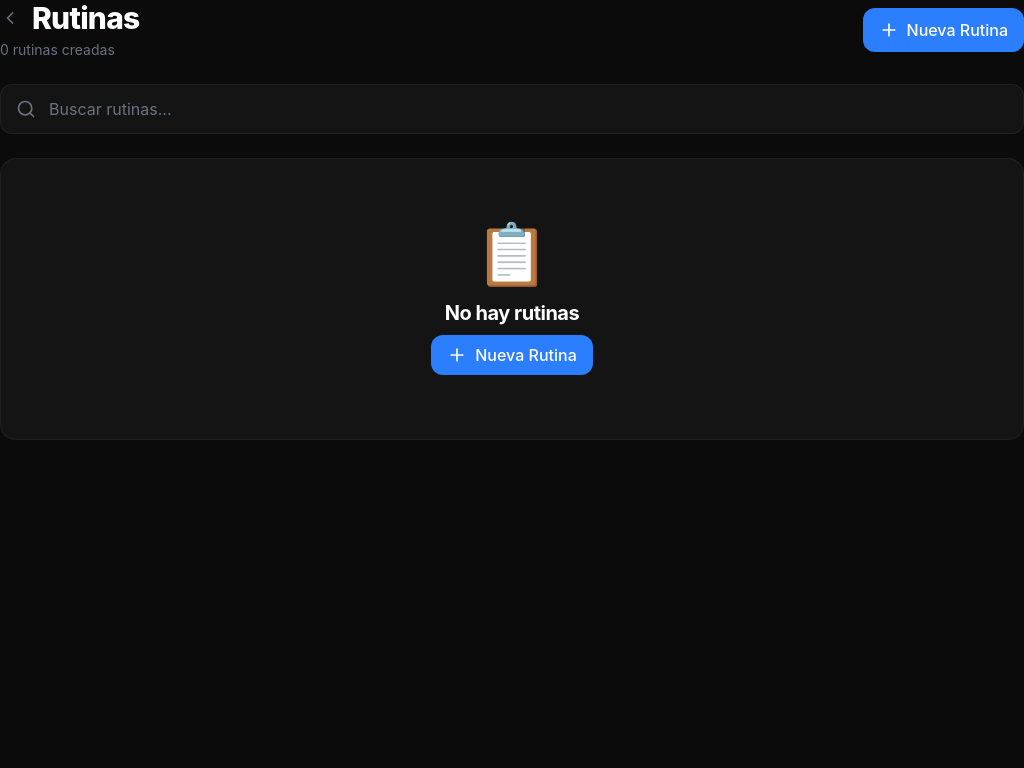
Test: AdminRutinasPage — picker de ejercicios sin nivel (R2) › el picker muestra solo grupo_muscular, sin el nivel del ejercicio
Expected: the text "0 rutinas creadas" is shown, left=0, top=41, right=115, bottom=58
Click the button "Nueva Rutina" in the row of "rutinas creadas": (943, 30) left=862, top=8, right=1023, bottom=52
(page scrolled)
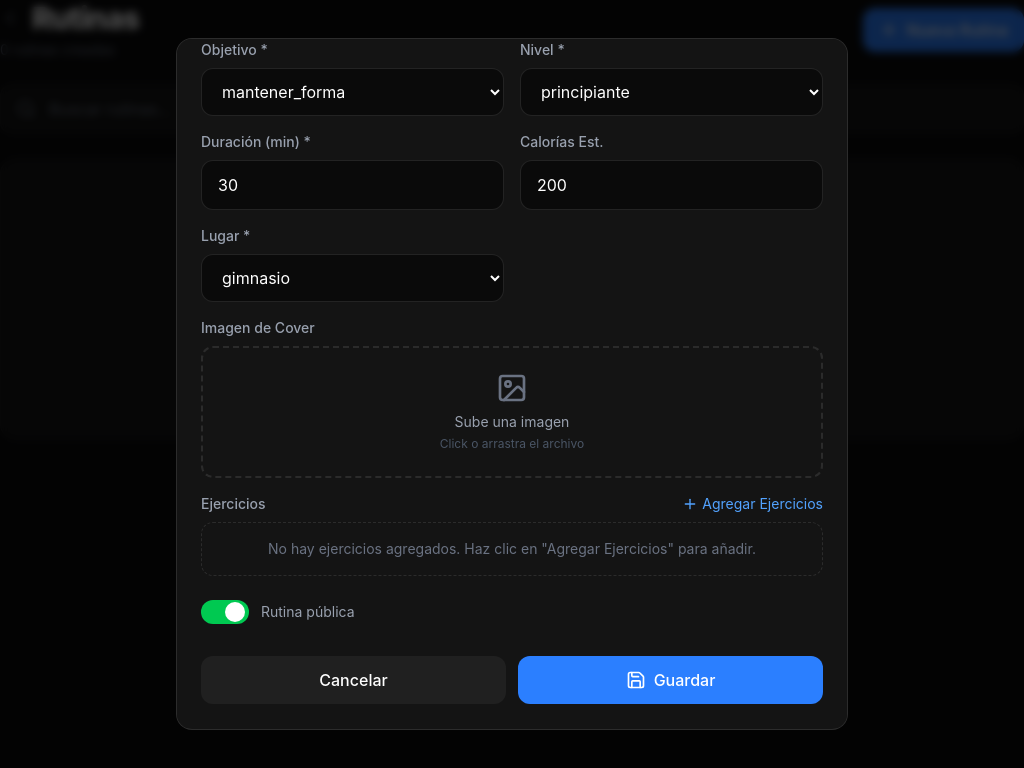
Click the button "Agregar Ejercicios": (753, 504) left=682, top=494, right=823, bottom=514
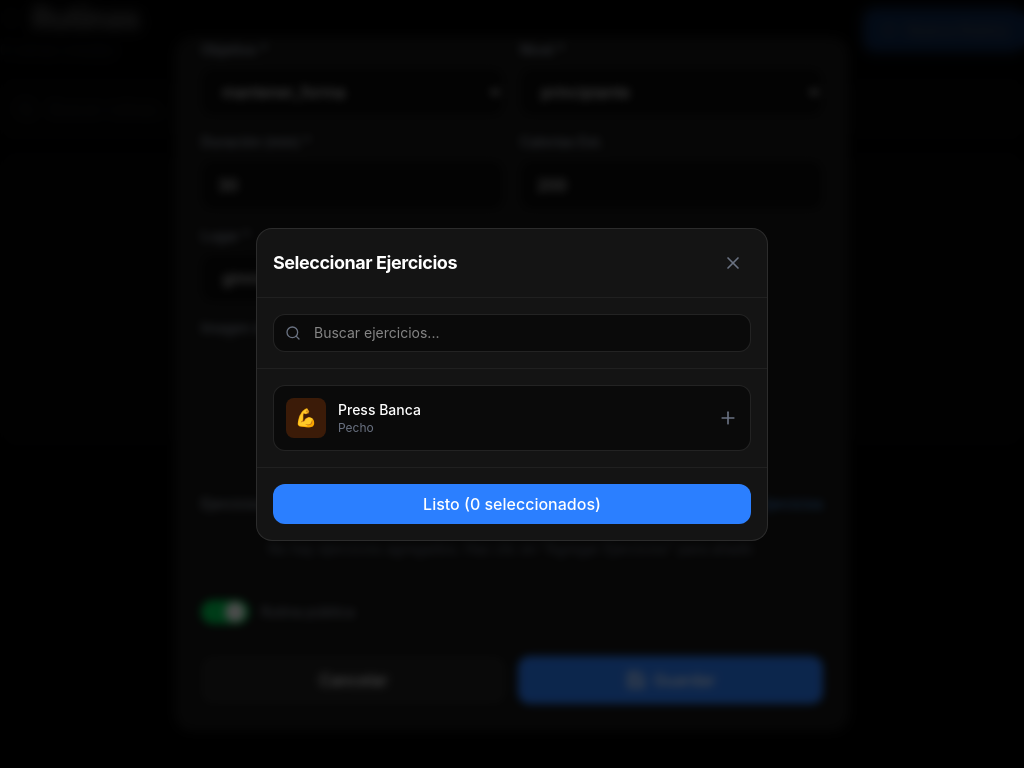
Now the button "💪 Press Banca pecho" is shown, box left=273, top=384, right=751, bottom=450
